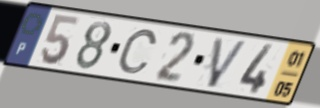2: (153, 30, 196, 85)
4: (236, 42, 277, 97)
5: (39, 11, 83, 67)
8: (73, 18, 114, 72)
C: (115, 28, 160, 76)
V: (205, 35, 251, 91)
